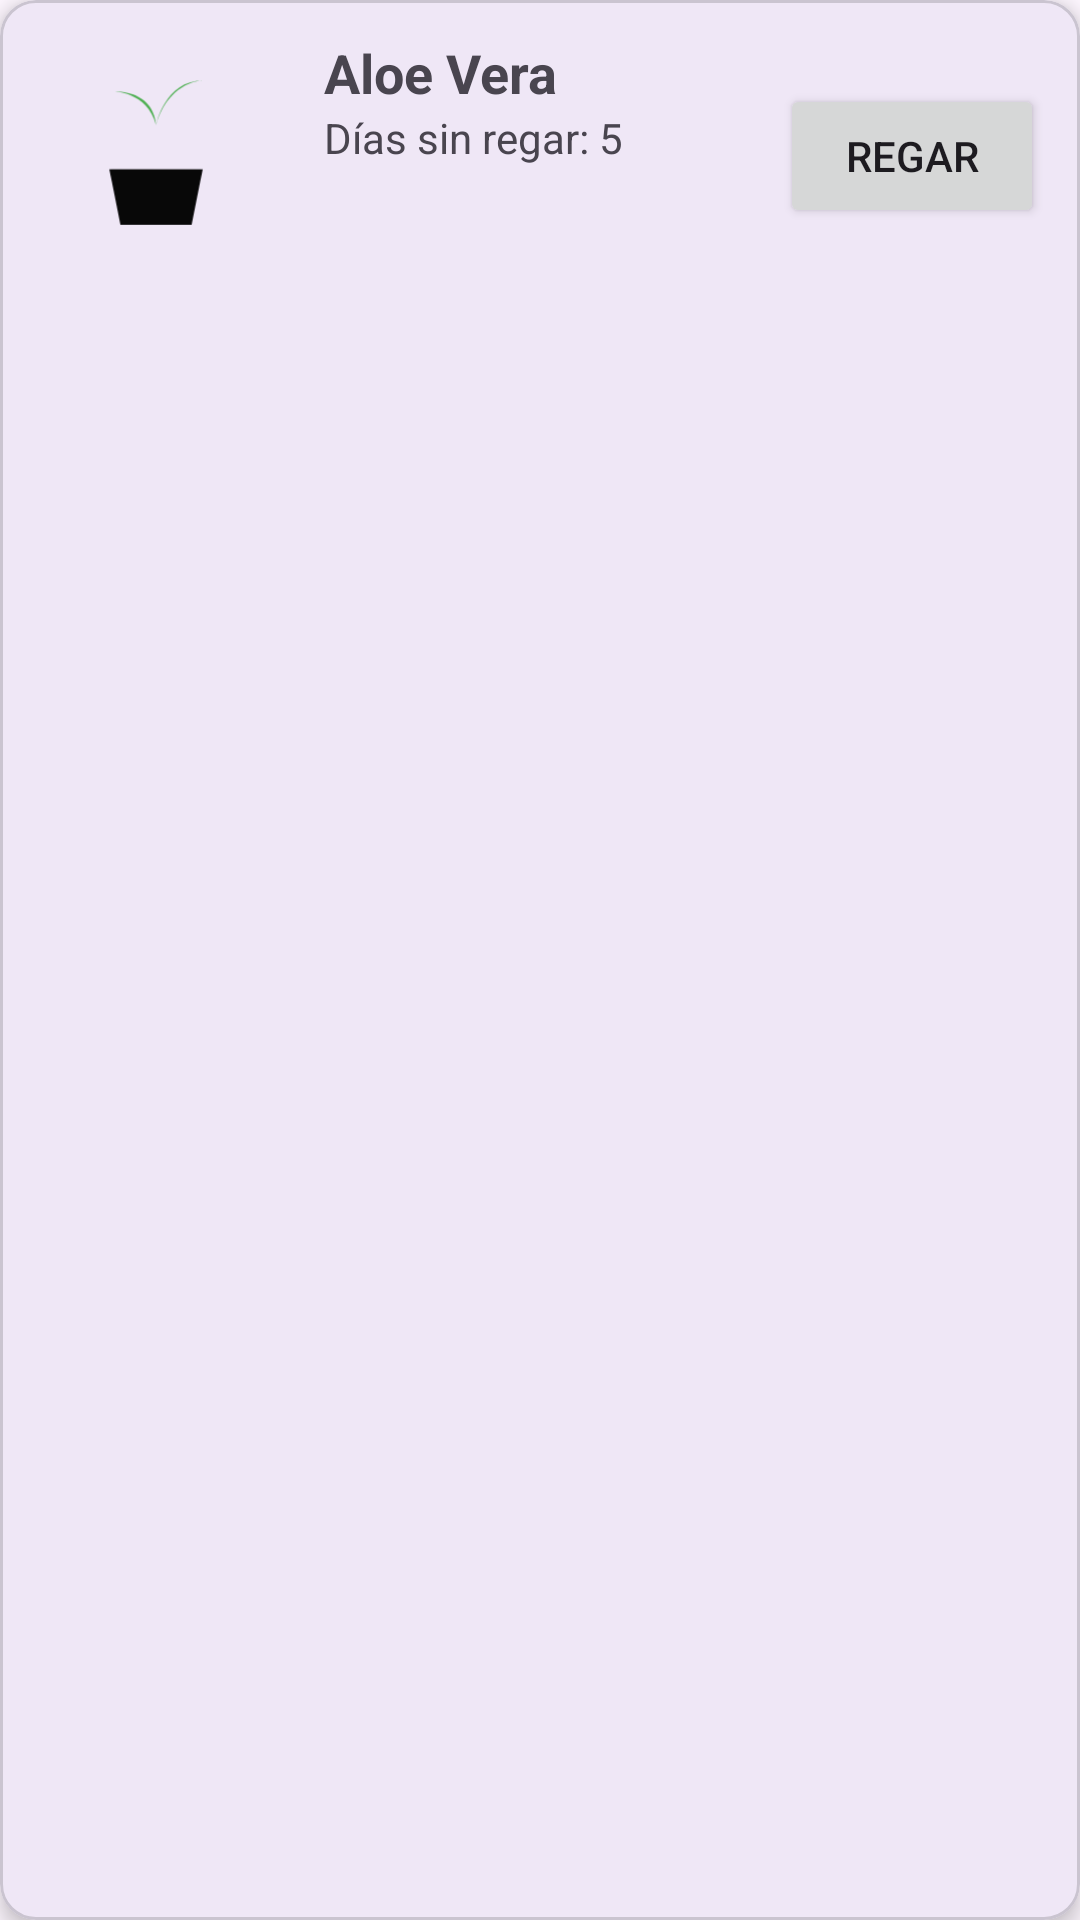

Point at icon controls on the screen. Image size 1080px x 1920px, points as [x,y].
planta: [156,152]
